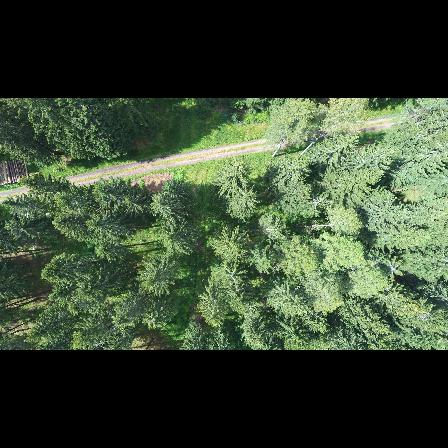Sick: (309, 193, 331, 213), (386, 257, 404, 280)
